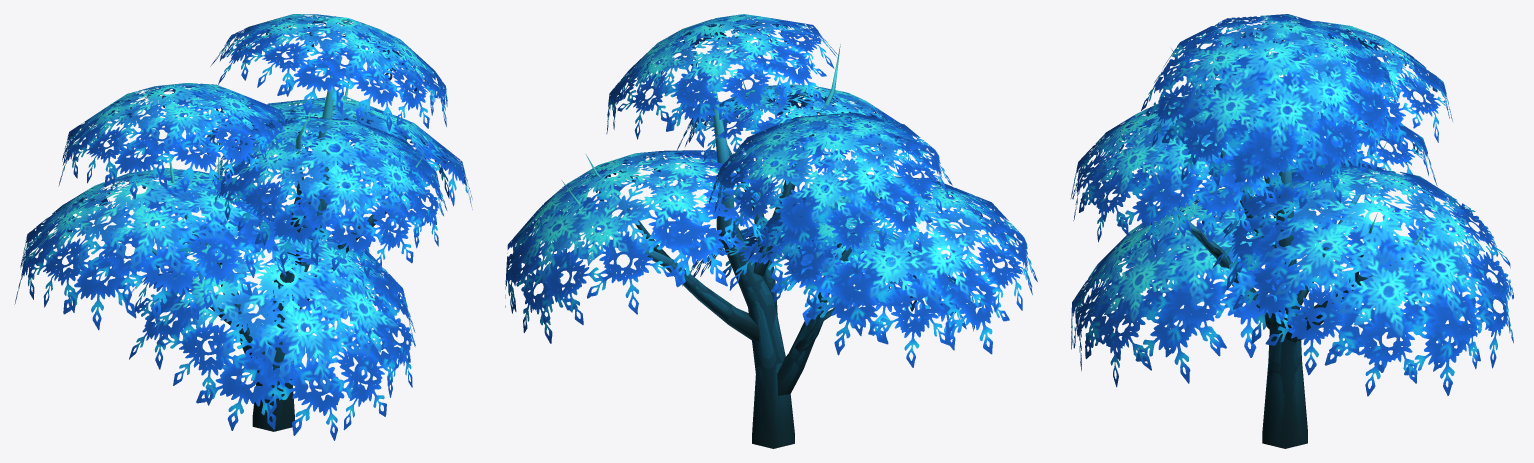
The model's file is Snow_Tree_02.FBX.
The picture shows the model from 3 angles, left to right: view 1: azimuth 30°, elevation 25°; view 2: azimuth 150°, elevation 25°; view 3: azimuth 270°, elevation 25°; orthographic projection. The views are drawn at different scales.
Visible parts, largest first — view 1: SnowTree-Leaves, Snow_Tree001; view 2: SnowTree-Leaves, Snow_Tree001; view 3: SnowTree-Leaves, Snow_Tree001.
Boxes of the visible parts, x1,y1,x2,y2 form: SnowTree-Leaves: (14,14,472,440); Snow_Tree001: (108,57,442,431); SnowTree-Leaves: (505,14,1037,367); Snow_Tree001: (562,44,877,448); SnowTree-Leaves: (1070,14,1513,396); Snow_Tree001: (1155,48,1427,448).
Bounding box in the file's own units: 267 × 218 × 211.
